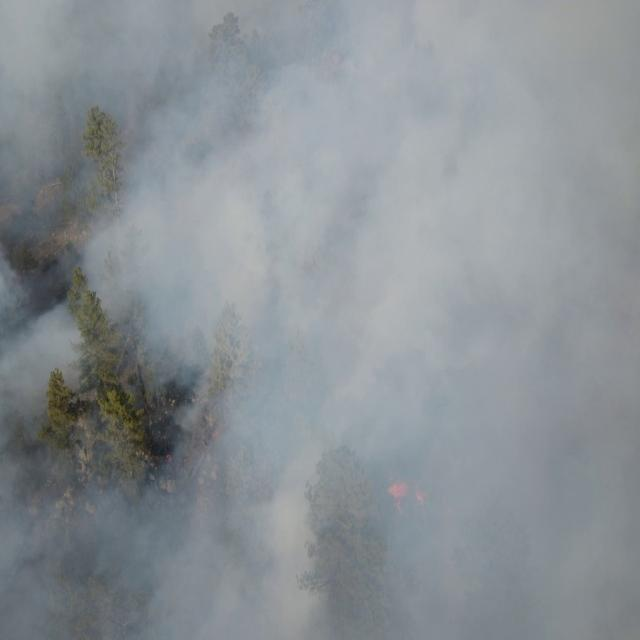fire: (385, 477, 410, 509), (414, 480, 431, 509)
smoke: (2, 0, 640, 640)
